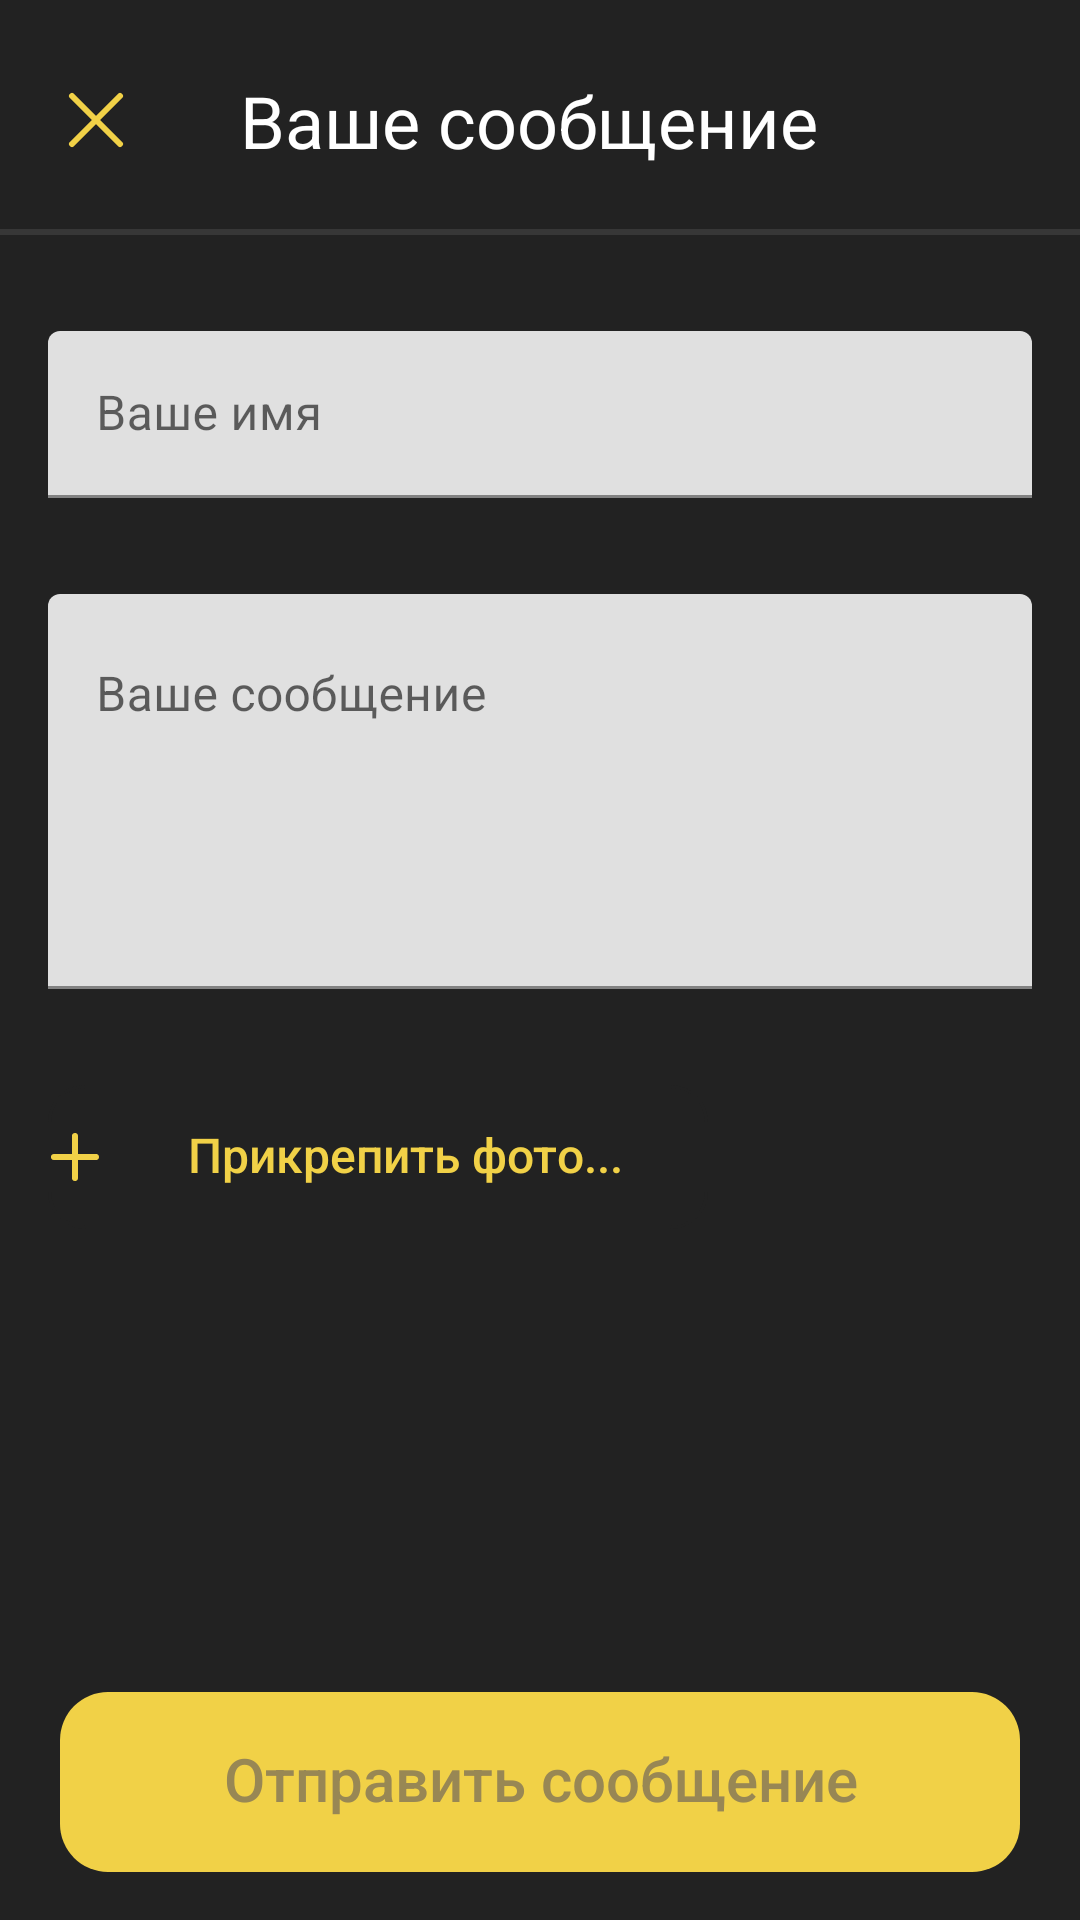

Locate icon controls on the screen. Image size 1080x1920, boxes as (x1, y1, x2, y2).
close: (69, 93, 123, 147)
